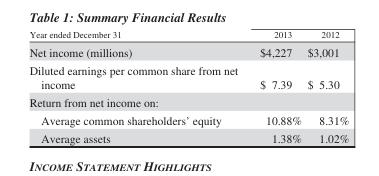table: (28, 29, 348, 144)
table column: (28, 29, 248, 144), (248, 29, 303, 144), (303, 29, 348, 144)
table column header: (28, 29, 348, 42)
table projected row header: (28, 92, 348, 111)
table row: (28, 60, 348, 92), (28, 92, 348, 111), (28, 42, 348, 60), (28, 111, 348, 129), (28, 129, 348, 144), (28, 29, 348, 42)
